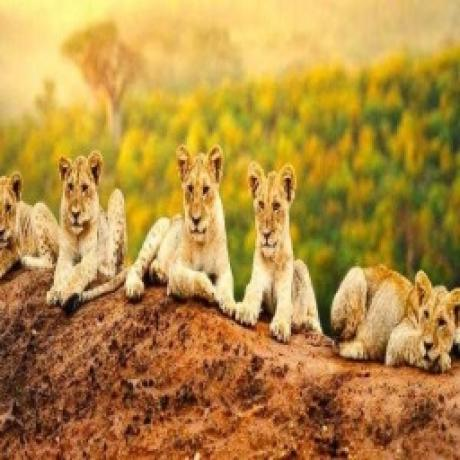Lion: (125, 144, 236, 315), (235, 166, 323, 342), (325, 260, 460, 374), (48, 148, 128, 318), (0, 169, 58, 275)
